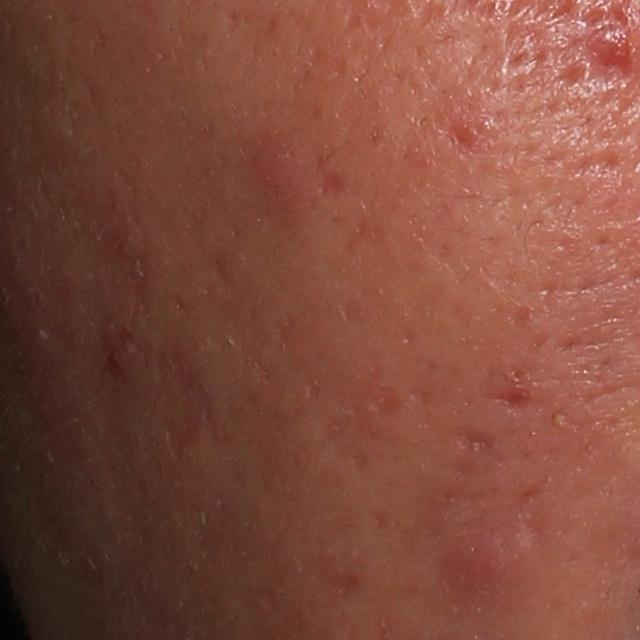atrophic_scar: (435, 101, 494, 157), (555, 151, 627, 177), (450, 421, 493, 458), (491, 385, 534, 412)
papule: (430, 514, 535, 590), (252, 126, 319, 238)
